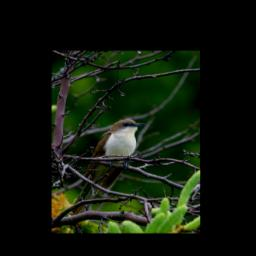Cuckoo: (67, 117, 143, 218)
